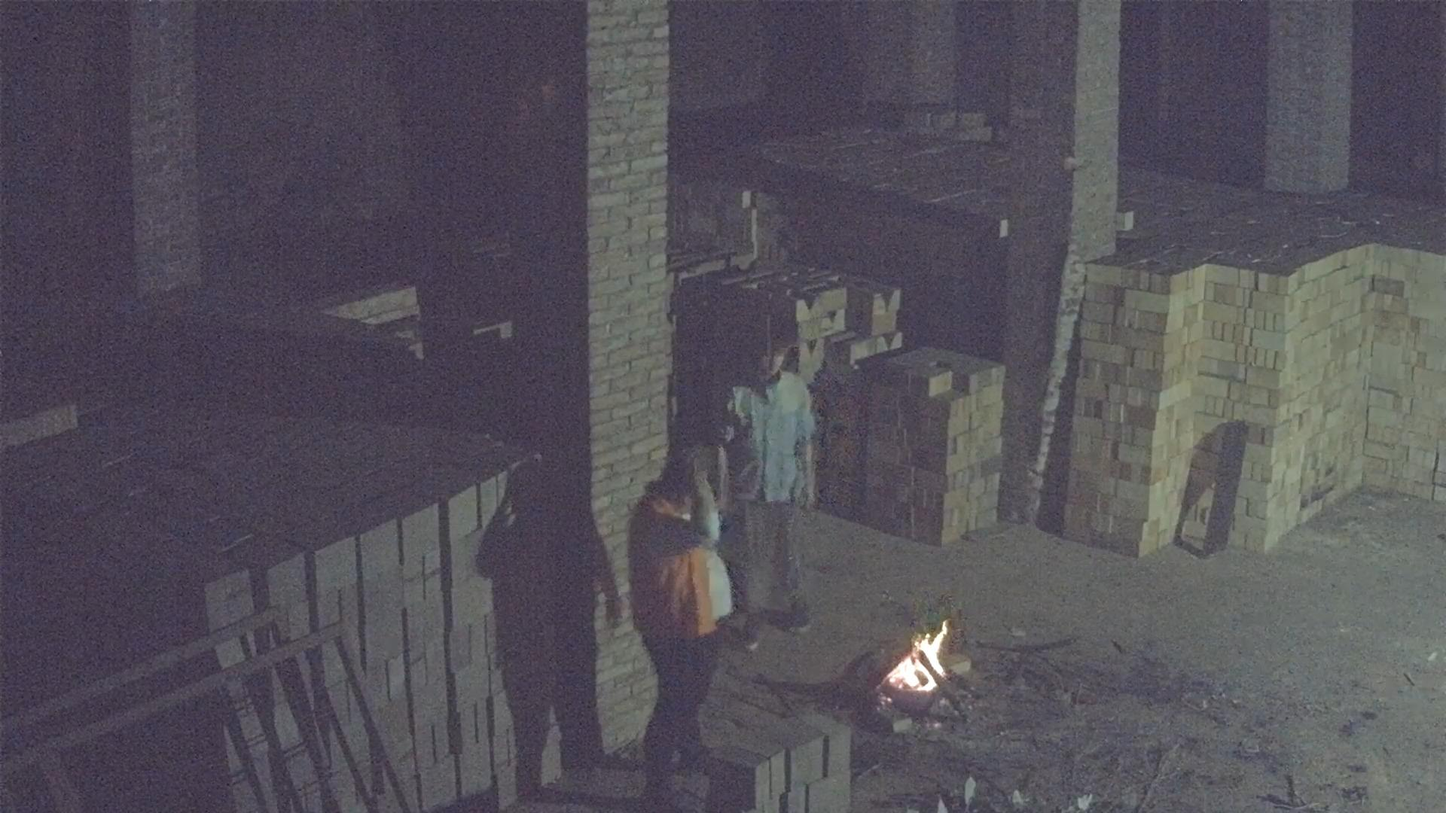fire: (877, 623, 948, 715)
